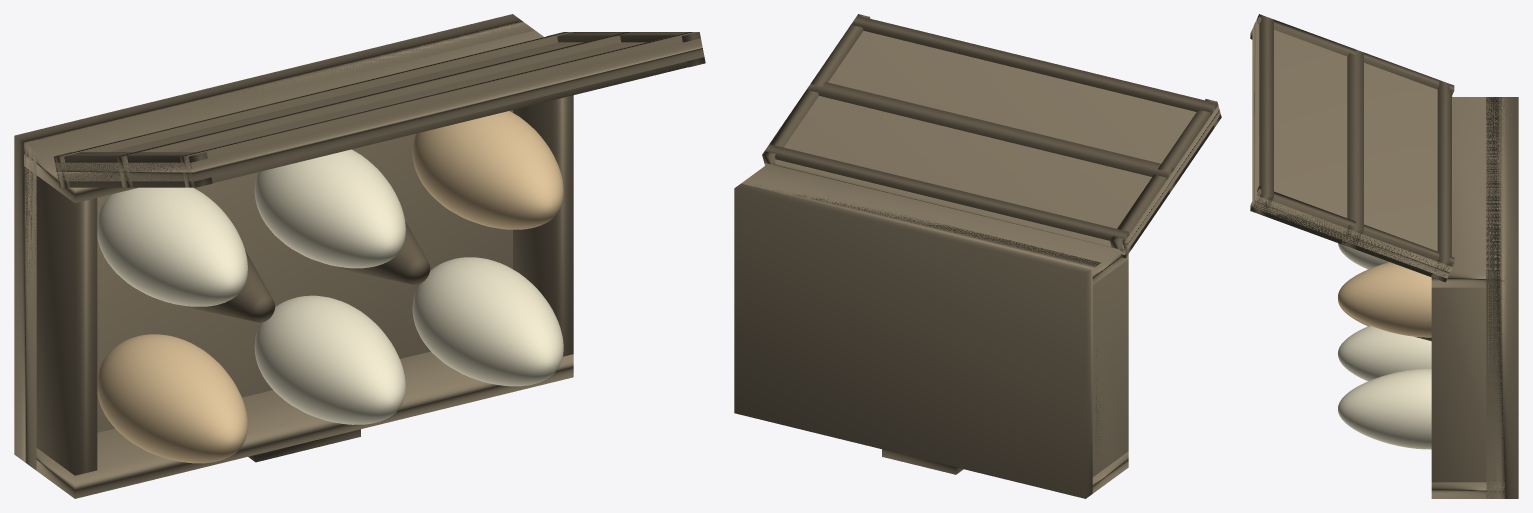
Rendered from egg_carton.obj.
3 views of the same model, side by side, from view 1: azimuth 30°, elevation 25°; view 2: azimuth 150°, elevation 25°; view 3: azimuth 270°, elevation 25° (orthographic). The views are drawn at different scales.
Visible parts, largest first — view 1: egg_carton; view 2: egg_carton; view 3: egg_carton.
Part boxes in pixels (x1,y1,x2,y2): egg_carton: [14, 14, 705, 498]; egg_carton: [734, 14, 1221, 498]; egg_carton: [1250, 14, 1518, 498].
Bounding box in the file's own units: 0.184 × 0.1571 × 0.1172.
